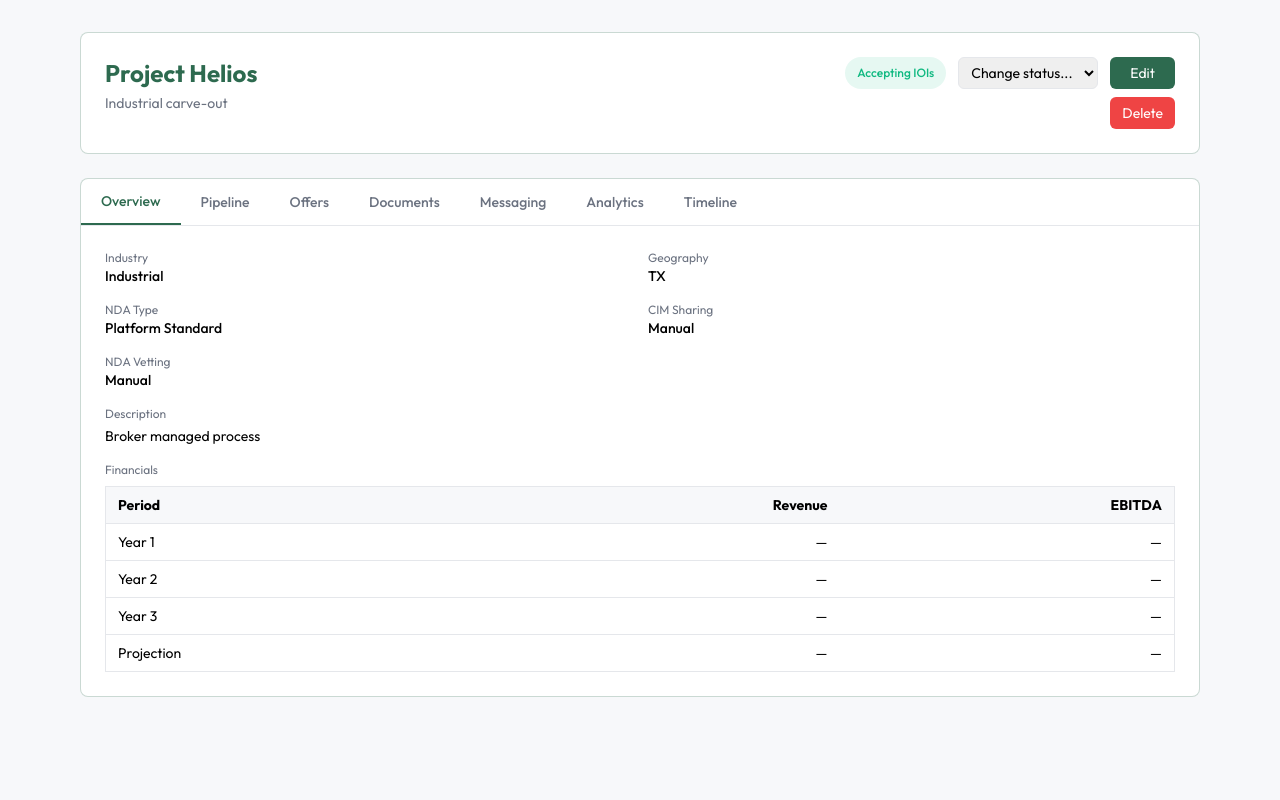
Test: BrokerDealManagement pipeline manual actions › shows Approve and Reject only for pending review rows when NDA vetting is manual
The width and height of the screenshot is (1280, 800).
Expected: the heading "Project Helios" is shown, [105, 57, 257, 89]
Click the button "Pipeline": (225, 202) [180, 179, 270, 225]
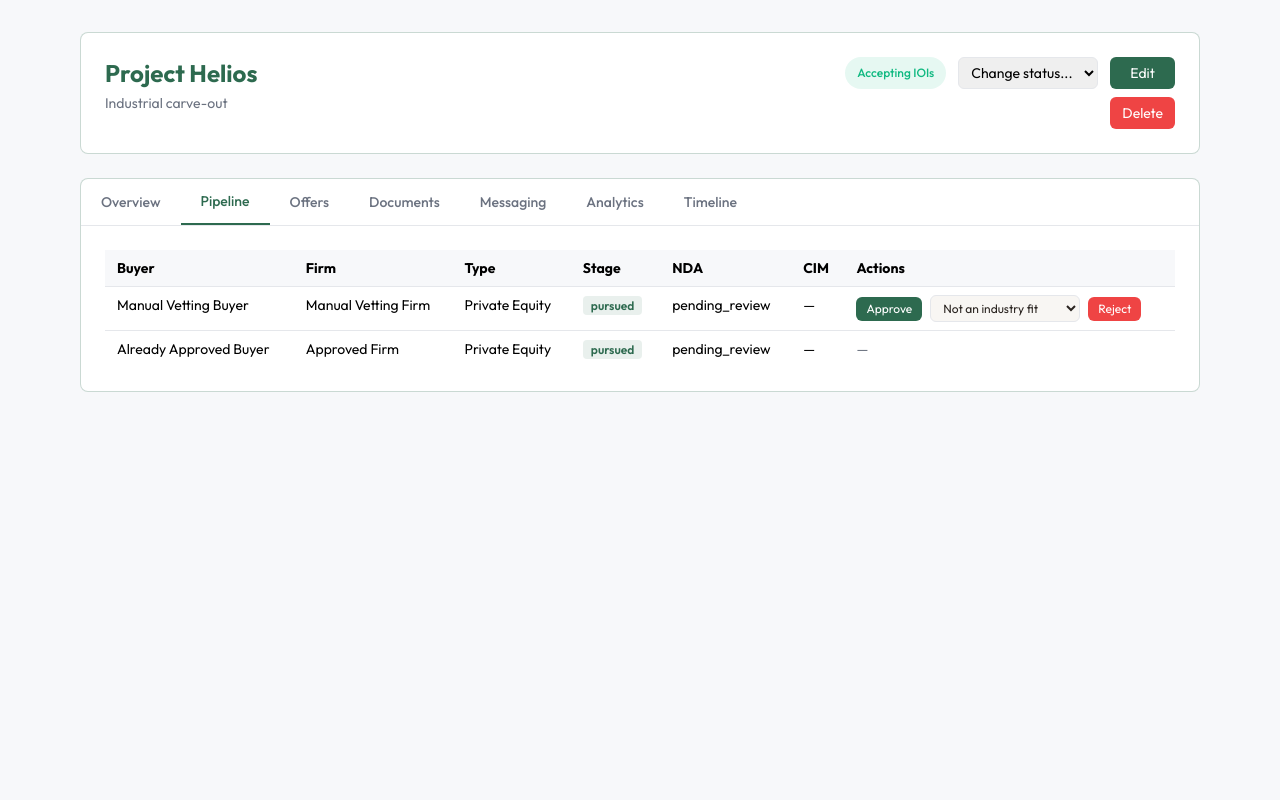
Now the column heading "Actions" is shown, box [844, 250, 1175, 286]
Now the text "Manual Vetting Buyer" is shown, box [117, 296, 249, 314]
Now the button with aria-label "Approve NDA vetting for Manual Vetting Buyer" is shown, box [856, 296, 922, 320]
